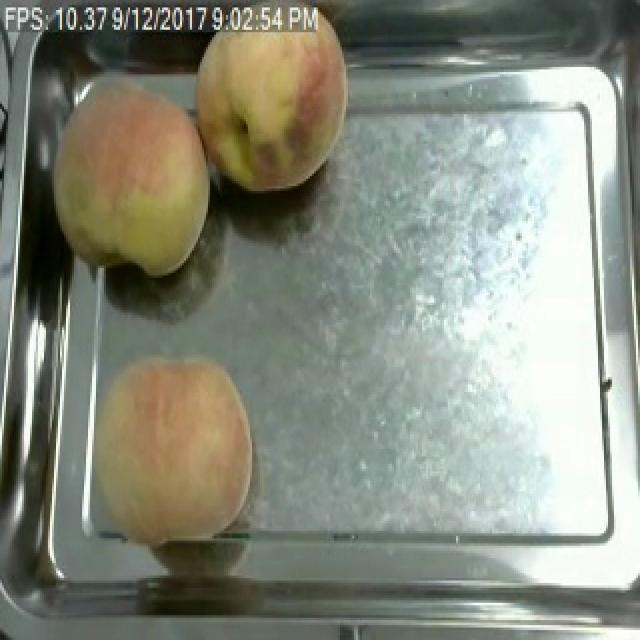Fruit: (72, 340, 262, 556), (44, 69, 224, 288), (182, 2, 360, 201)
